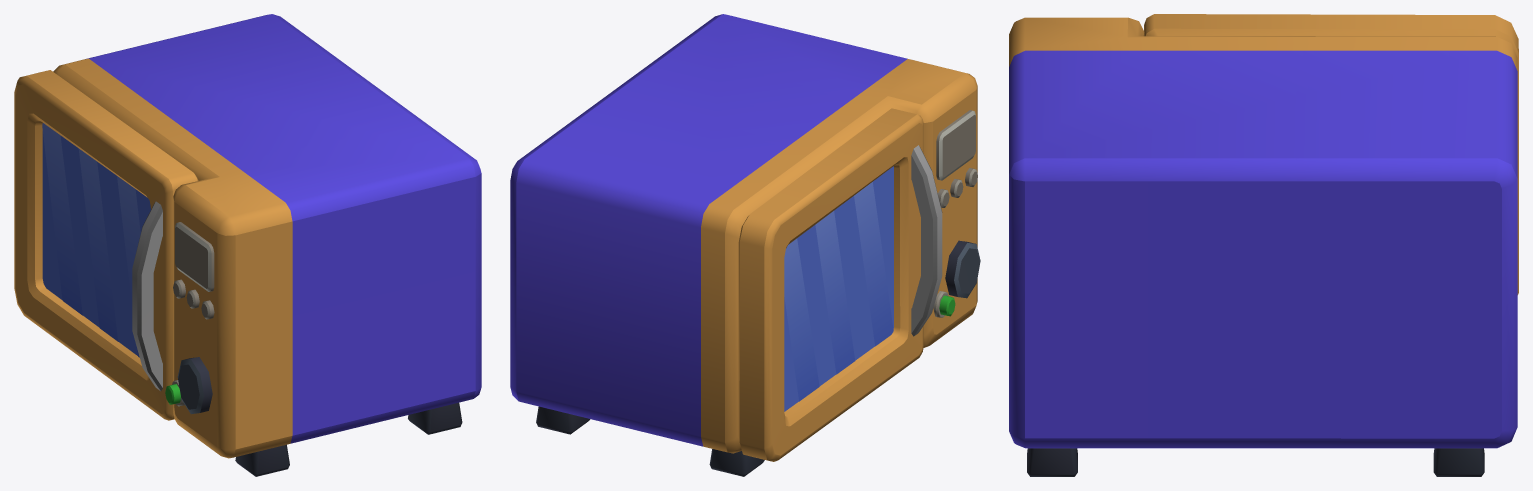
Rendered from Microvawe_E.glb.
The picture shows the model from 3 angles, left to right: view 1: azimuth 30°, elevation 25°; view 2: azimuth 150°, elevation 25°; view 3: azimuth 270°, elevation 25°; orthographic projection. The views are drawn at different scales.
Visible parts, largest first — view 1: Microvawe_E, Microvawe_E_Door; view 2: Microvawe_E, Microvawe_E_Door; view 3: Microvawe_E, Microvawe_E_Door.
Boxes of the visible parts, bbox=[...] form: Microvawe_E: bbox=[53, 14, 481, 476]; Microvawe_E_Door: bbox=[14, 70, 198, 420]; Microvawe_E: bbox=[510, 14, 980, 476]; Microvawe_E_Door: bbox=[738, 108, 942, 461]; Microvawe_E: bbox=[1009, 17, 1517, 476]; Microvawe_E_Door: bbox=[1144, 14, 1518, 294].
Size of the model in its own units: 0.4059 by 0.3648 by 0.5222.
2 materials, 2 textured.
